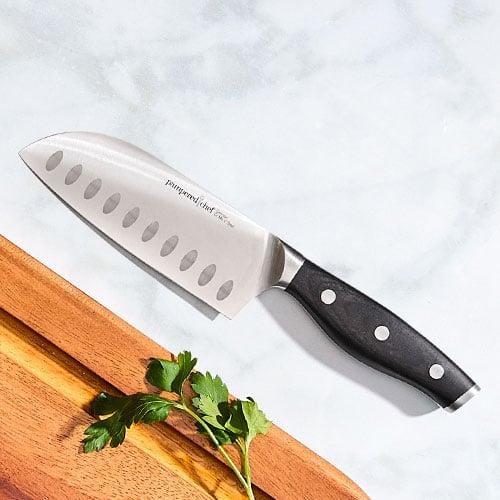Knife: (18, 129, 481, 414)
